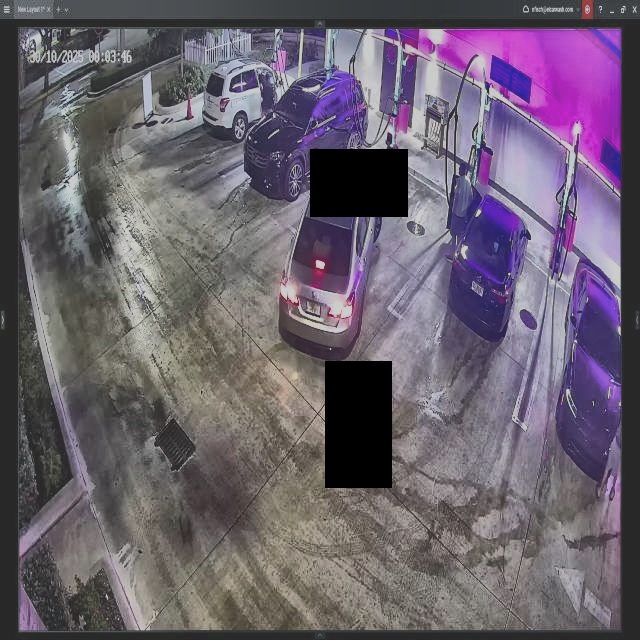Car: (278, 172, 382, 352), (243, 70, 368, 197), (451, 175, 530, 332)
